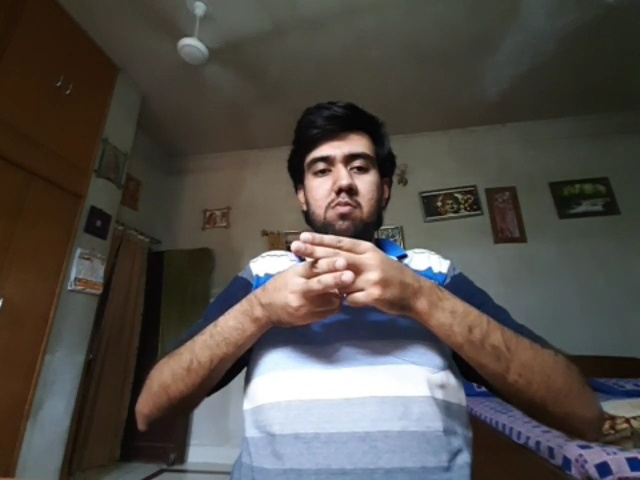Name: (269, 232, 408, 326)
